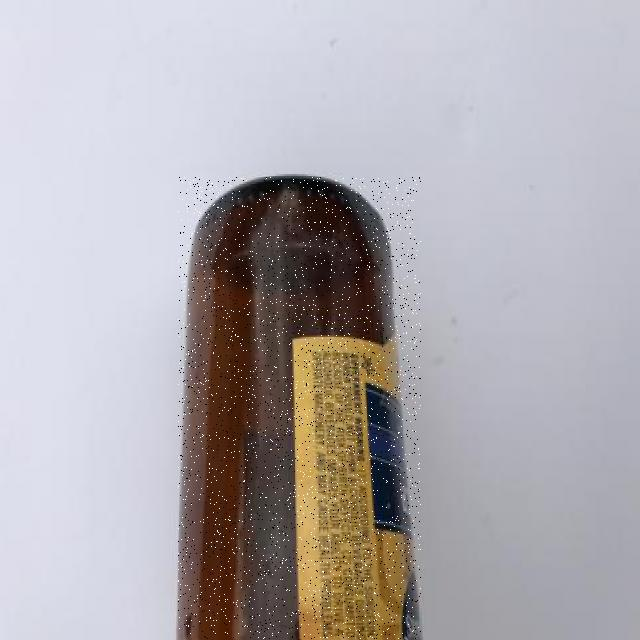glass: (178, 178, 421, 639)
